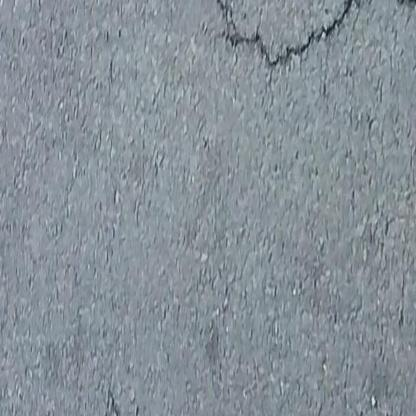Cracks: (199, 0, 416, 75)
